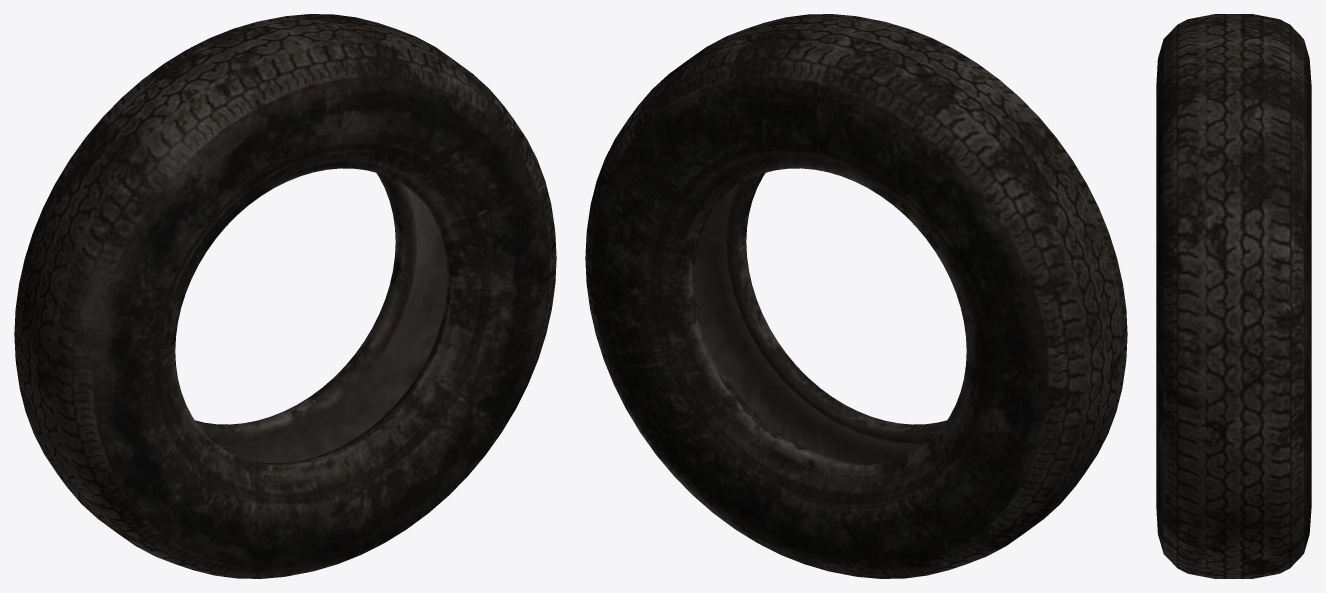
The model's file is old_tyre.gltf.
The picture shows the model from 3 angles, left to right: view 1: azimuth 30°, elevation 25°; view 2: azimuth 150°, elevation 25°; view 3: azimuth 270°, elevation 25°; orthographic projection. The views are drawn at different scales.
Visible parts, largest first — view 1: old_tyre; view 2: old_tyre; view 3: old_tyre.
Boxes of the visible parts, left/top/right/bottom form: old_tyre: left=14, top=14, right=556, bottom=578; old_tyre: left=585, top=14, right=1127, bottom=578; old_tyre: left=1156, top=14, right=1311, bottom=578.
Size of the model in its own units: 0.6 by 0.6 by 0.165.
Materials: 1 (1 with a texture image).
